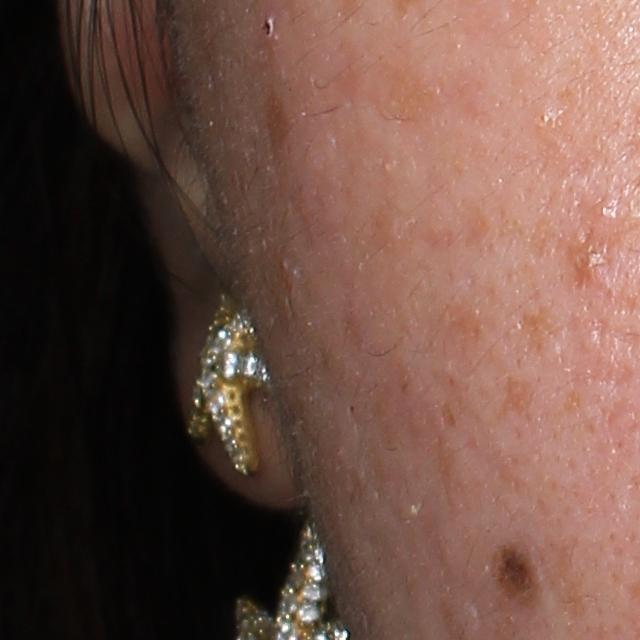comedo: (593, 195, 617, 221)
nevus: (484, 539, 543, 601)
